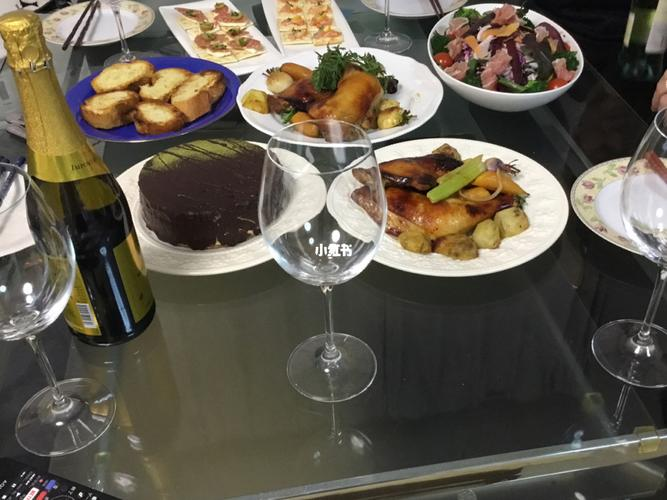food: (362, 127, 559, 273), (233, 42, 441, 136), (421, 0, 584, 112), (143, 131, 267, 258), (68, 48, 231, 138), (169, 0, 269, 69)
